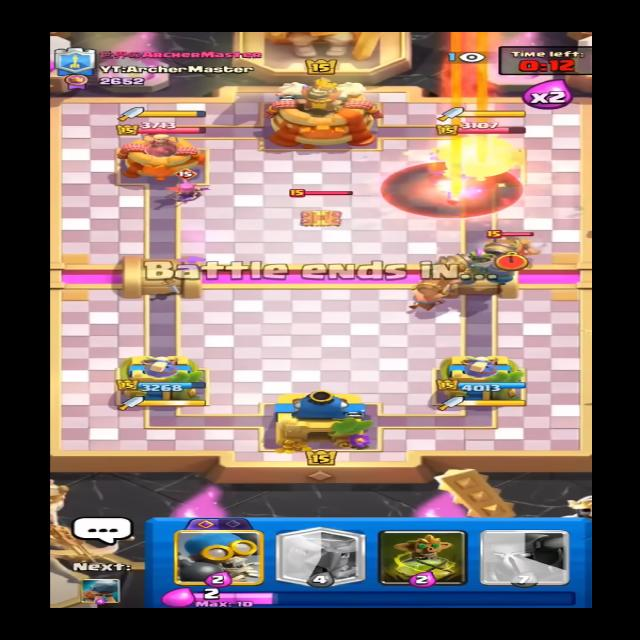evo-archers: (163, 172, 209, 205)
knight: (487, 229, 548, 262)
tesla-closed: (282, 184, 356, 232)
